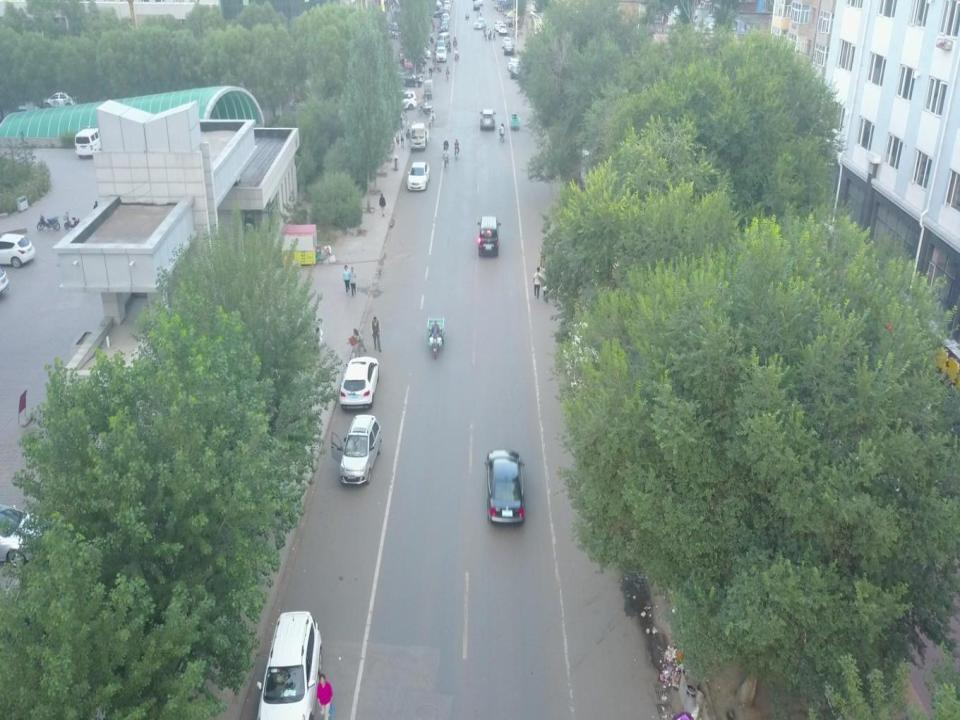car: (255, 610, 322, 720), (0, 504, 65, 570), (330, 414, 382, 486), (484, 449, 528, 527), (338, 356, 380, 411), (0, 232, 36, 269), (406, 161, 430, 192), (40, 90, 77, 110), (385, 91, 417, 111), (392, 70, 423, 88), (479, 108, 496, 132), (434, 45, 447, 63), (507, 56, 520, 72), (510, 64, 522, 80), (503, 44, 515, 56)
truck: (410, 120, 429, 152)
van: (476, 214, 501, 258), (73, 125, 106, 158)
